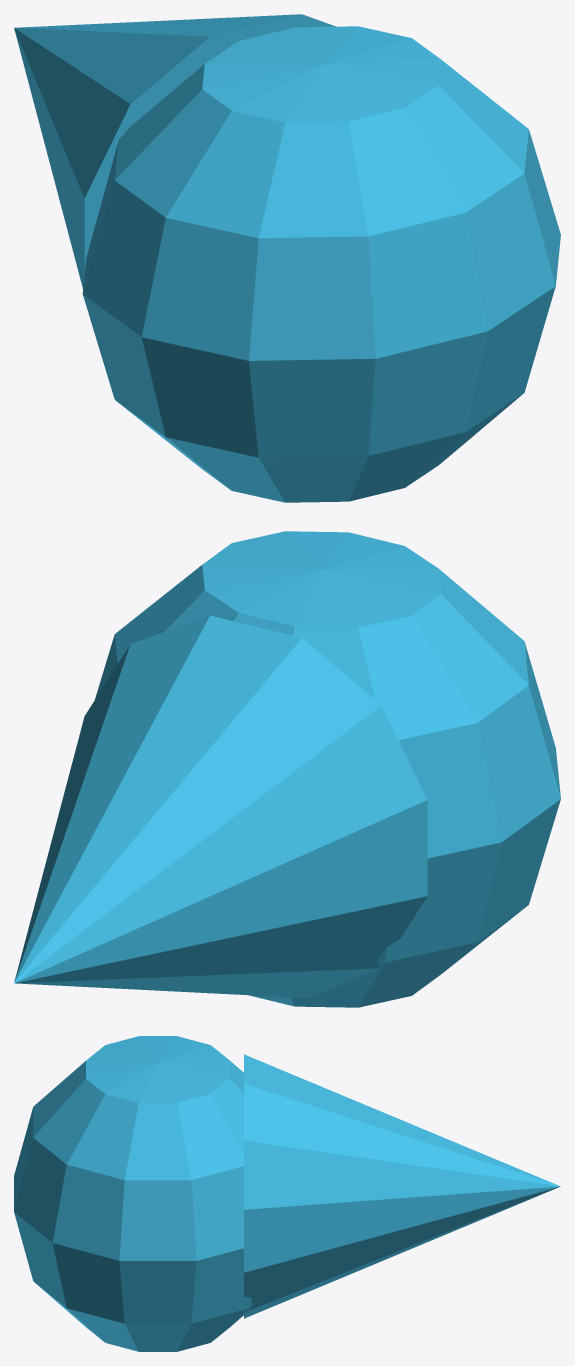
The model's file is PlasmaBullet.gltf.
3 views of the same model, one above another, from view 1: azimuth 30°, elevation 25°; view 2: azimuth 150°, elevation 25°; view 3: azimuth 270°, elevation 25° (orthographic). The views are drawn at different scales.
Parts seen in each view (by area): view 1: cone; view 2: cone; view 3: cone.
Boxes of the visible parts, x1,y1,x2,y2 form: cone: (14, 14, 560, 502); cone: (14, 531, 560, 1007); cone: (14, 1036, 560, 1351).
Bounding box in the file's own units: 0.3438 × 0.3125 × 0.5934.
1 material, 1 textured.
